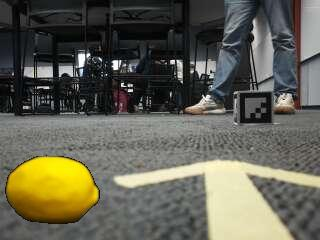lemon: (6, 158, 98, 223)
